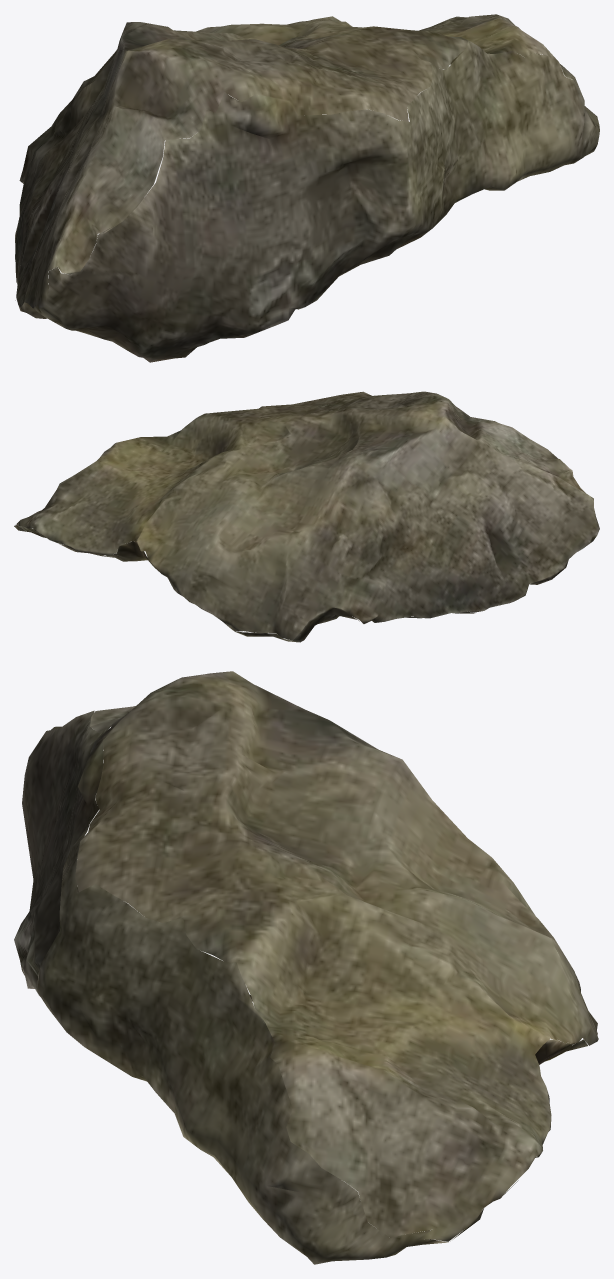
Rendered from rock-moss-set-02-rock09.glb.
The picture shows the model from 3 angles, top to bottom: view 1: azimuth 30°, elevation 25°; view 2: azimuth 150°, elevation 25°; view 3: azimuth 270°, elevation 25°; orthographic projection. The views are drawn at different scales.
Parts seen in each view (by area): view 1: rock_moss_set_02_rock09; view 2: rock_moss_set_02_rock09; view 3: rock_moss_set_02_rock09.
Part boxes in pixels (<box>): rock_moss_set_02_rock09: <box>15,14,599,362</box>; rock_moss_set_02_rock09: <box>14,391,599,642</box>; rock_moss_set_02_rock09: <box>14,671,598,1264</box>.
Size of the model in its own units: 1.63 by 0.6086 by 1.02.
Materials: 1 (1 with a texture image).
